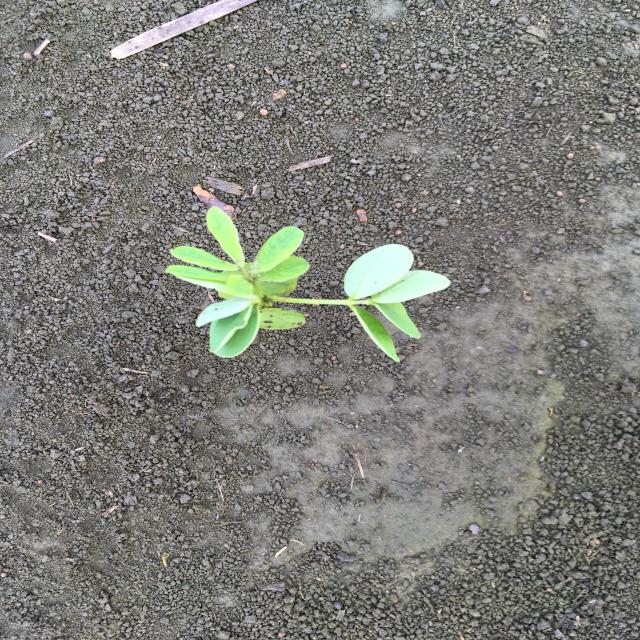Sicklepod: (165, 204, 454, 366)
